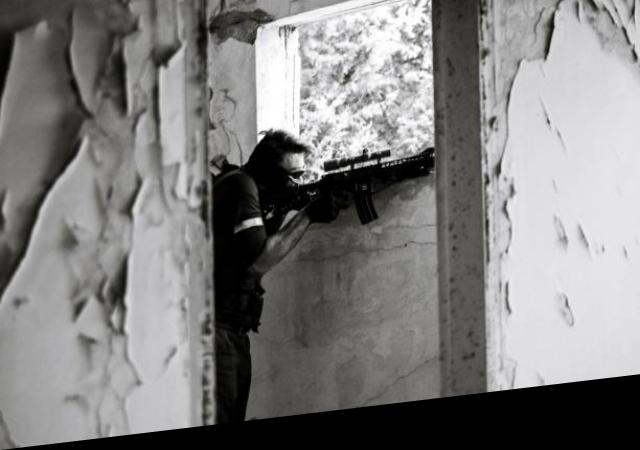other: (198, 133, 310, 430)
